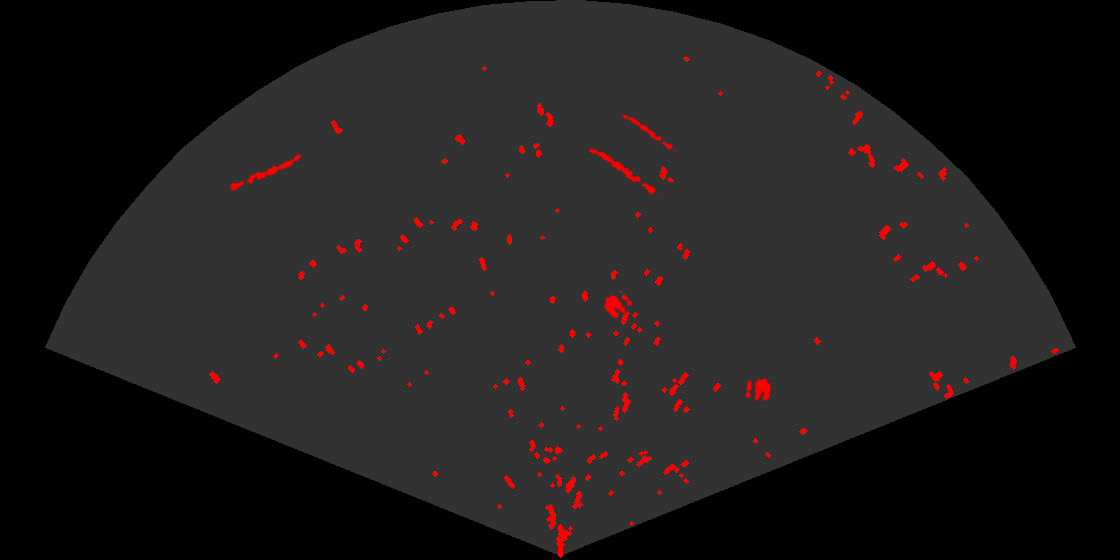ball: (603, 289, 634, 320), (744, 377, 773, 403)
chain: (587, 147, 665, 201), (225, 153, 303, 193), (619, 112, 680, 155)
